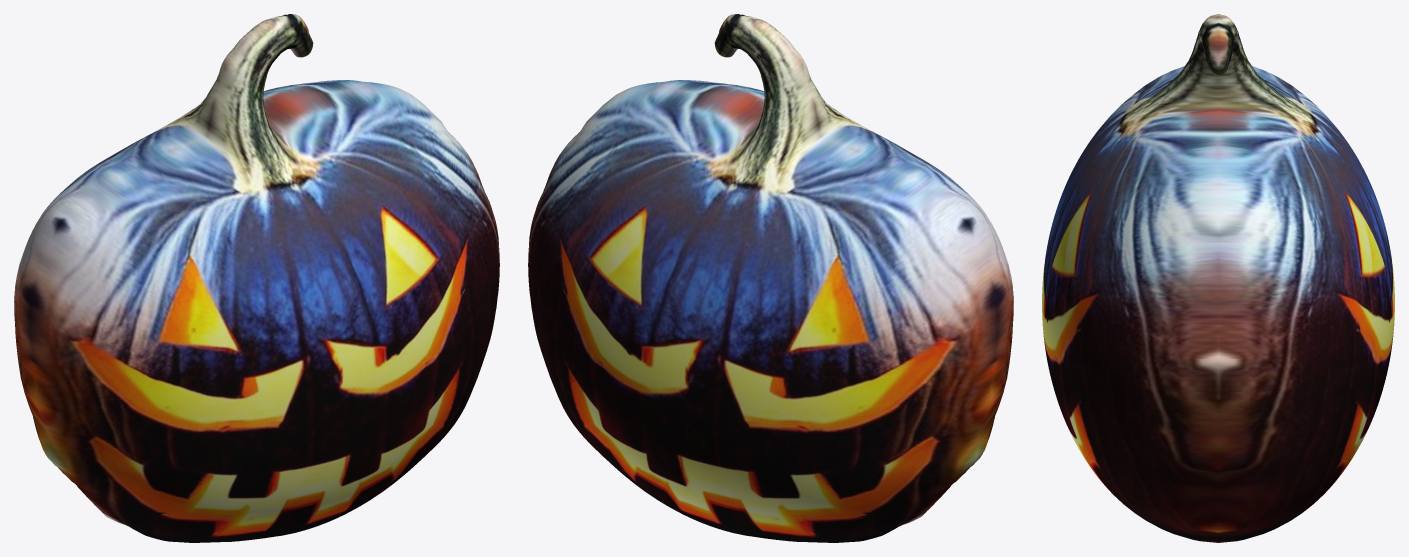
Rendered from black-pumpkin.glb.
3 renders of one model, left to right at view 1: azimuth 30°, elevation 25°; view 2: azimuth 150°, elevation 25°; view 3: azimuth 270°, elevation 25°, orthographic.
Size of the model in its own units: 6.73 by 7.11 by 4.48.
1 material, 1 textured.
